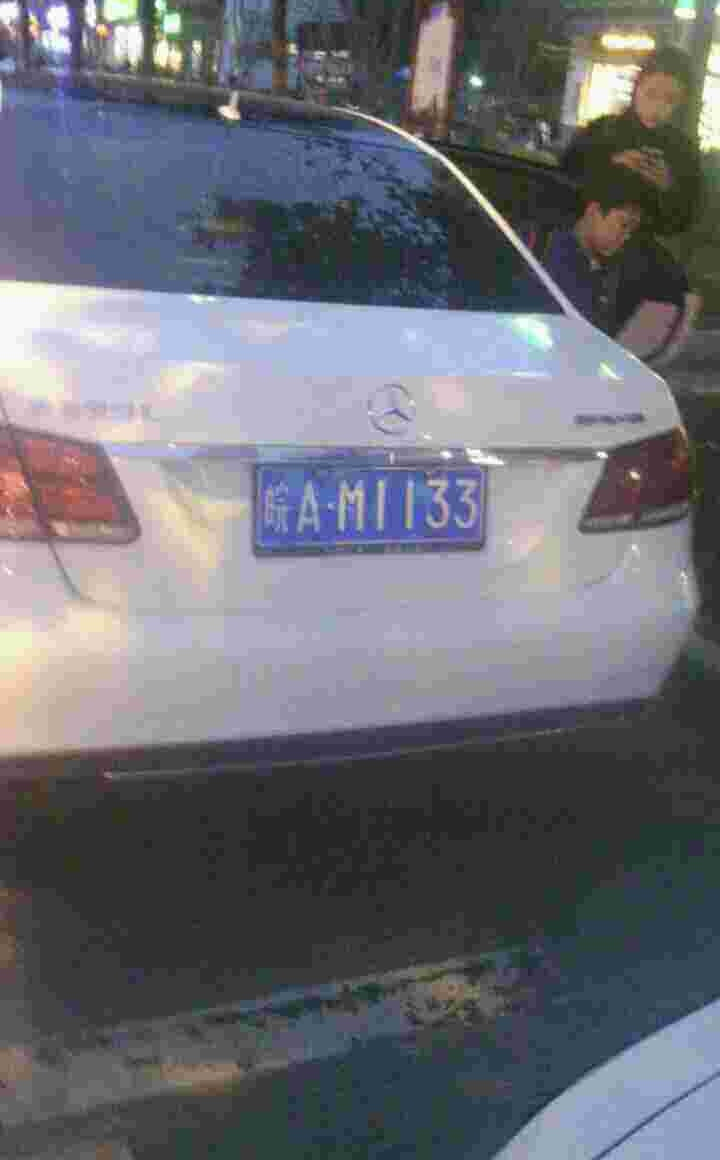plate: (262, 460, 492, 550)
